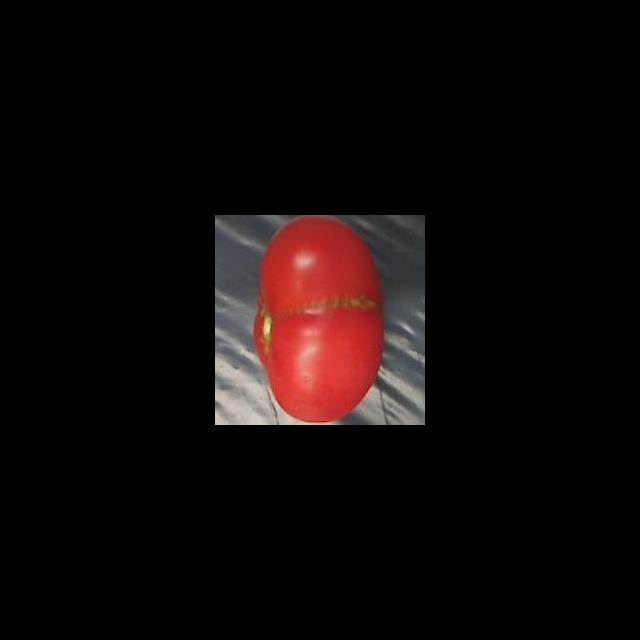tomato: (252, 215, 384, 422)
